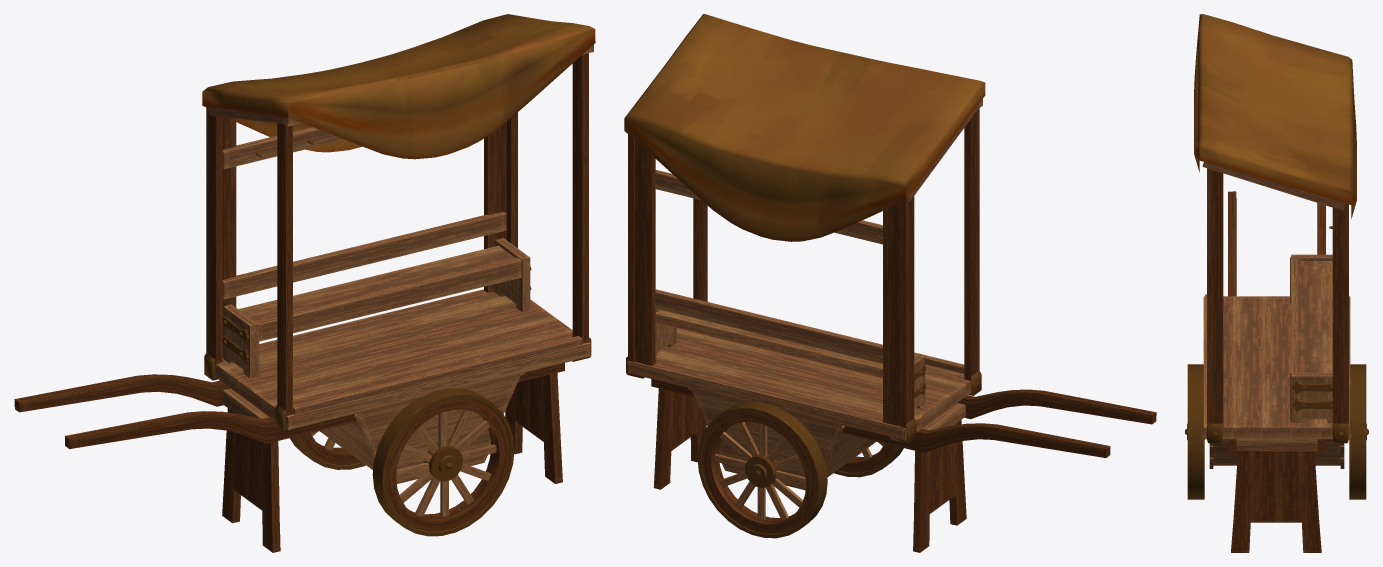
The model's file is stall_cart_empty.gltf.
3 views of the same model, side by side, from view 1: azimuth 30°, elevation 25°; view 2: azimuth 150°, elevation 25°; view 3: azimuth 270°, elevation 25° (orthographic). The views are drawn at different scales.
Visible parts, largest first — view 1: Stall_Cart_Empty; view 2: Stall_Cart_Empty; view 3: Stall_Cart_Empty.
Part boxes in pixels (box(x1,y1,x2,y2)): Stall_Cart_Empty: box(14, 14, 595, 552); Stall_Cart_Empty: box(624, 14, 1156, 552); Stall_Cart_Empty: box(1185, 14, 1368, 552).
Size of the model in its own units: 3.02 by 2.63 by 1.06.
3 materials, 3 textured.
